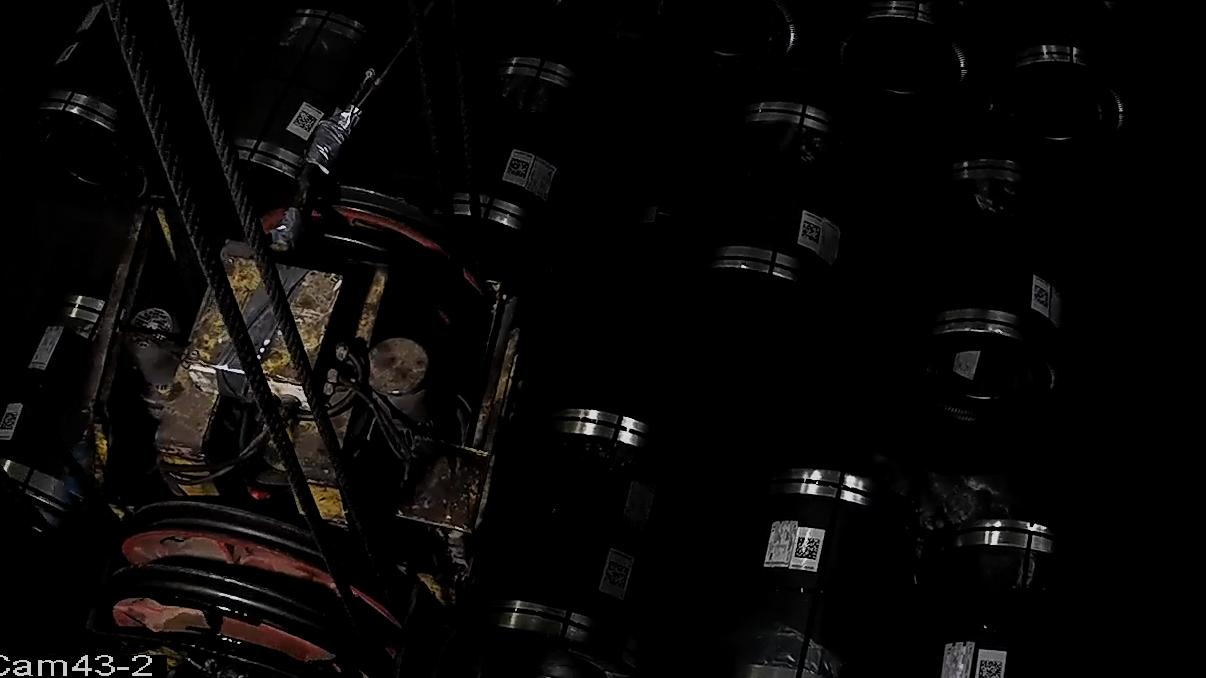data matrix: (602, 559, 633, 592), (793, 535, 824, 563), (292, 108, 320, 135), (799, 220, 824, 246), (506, 157, 533, 181), (977, 658, 1007, 678), (1, 409, 22, 434), (1033, 284, 1052, 310)
